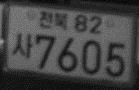0: (81, 38, 101, 75)
2: (88, 15, 102, 35)
5: (103, 41, 125, 77)
6: (56, 36, 78, 72)
7: (34, 33, 55, 69)
8: (73, 13, 87, 33)
사: (11, 31, 34, 59)
전북_H: (37, 9, 69, 30)
